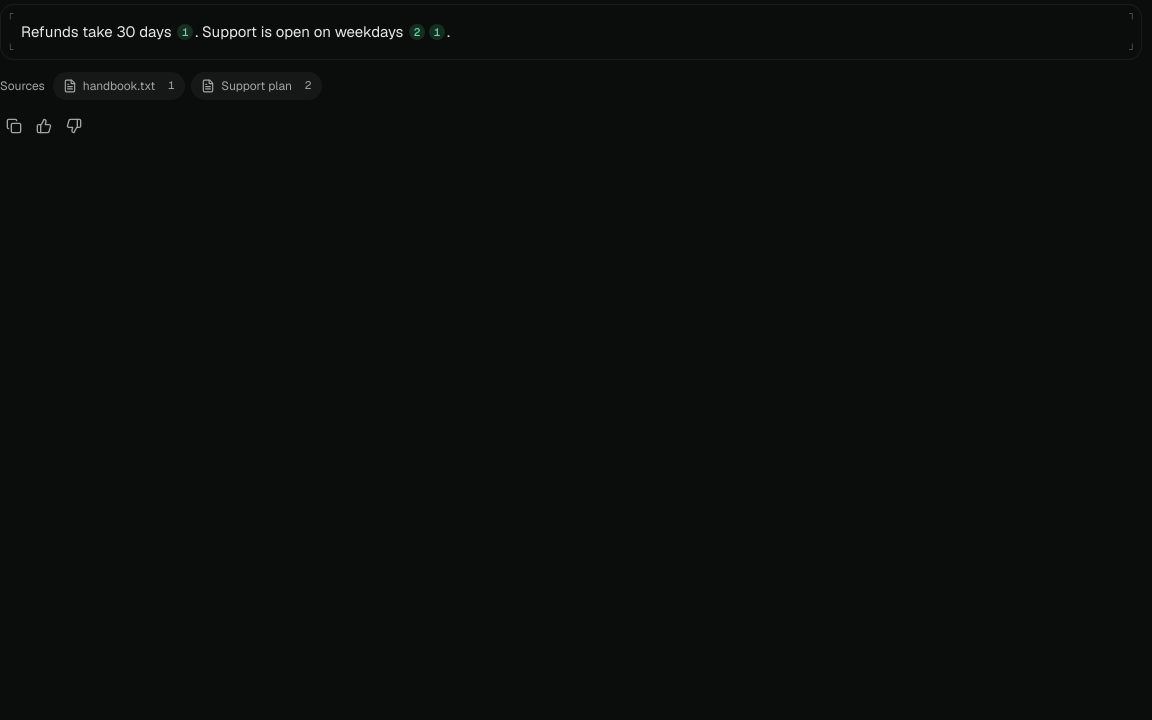
Test: inline citations › opens an upload's passage from the index, highlighted in its context
The width and height of the screenshot is (1152, 720).
Click the button named "Source 1:" at [185, 32], box [177,24,193,40]
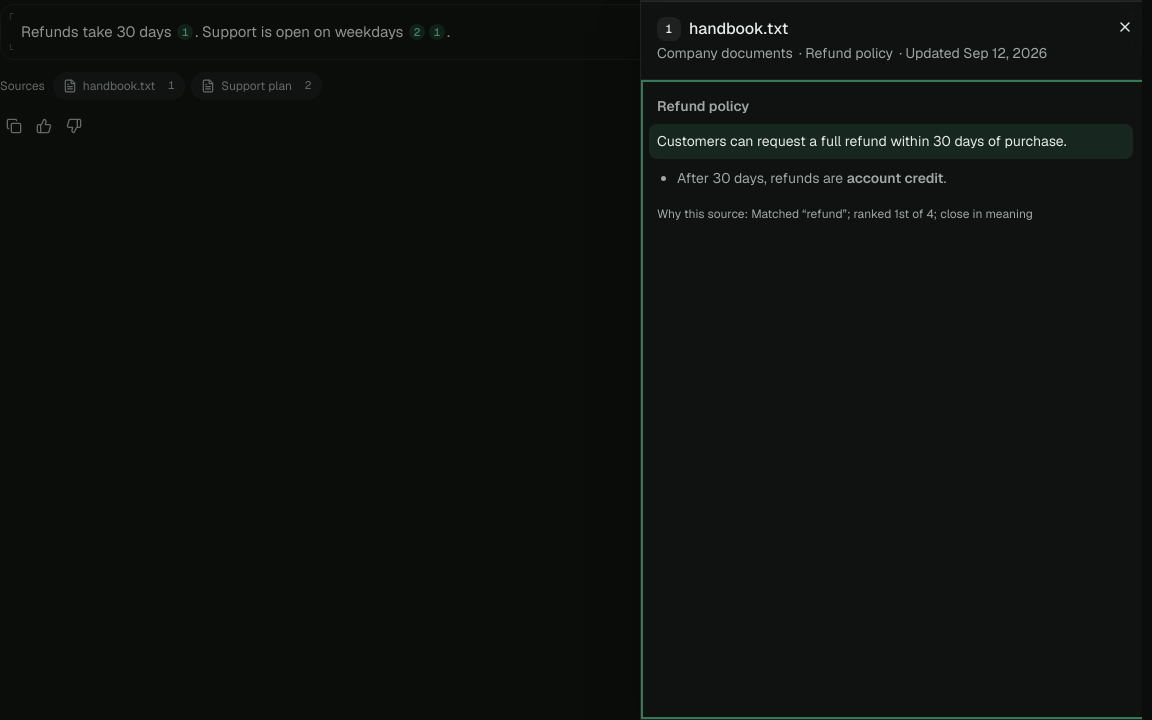
Now the dialog shows "refunds are account credit", box [640,0,1151,719]
Now the element named "Cited passage" reads "Customers can request a full refund within 30 days of purchase.", box [657,132,1066,150]
Now the heading "Refund policy" is shown, box [657,97,749,115]
